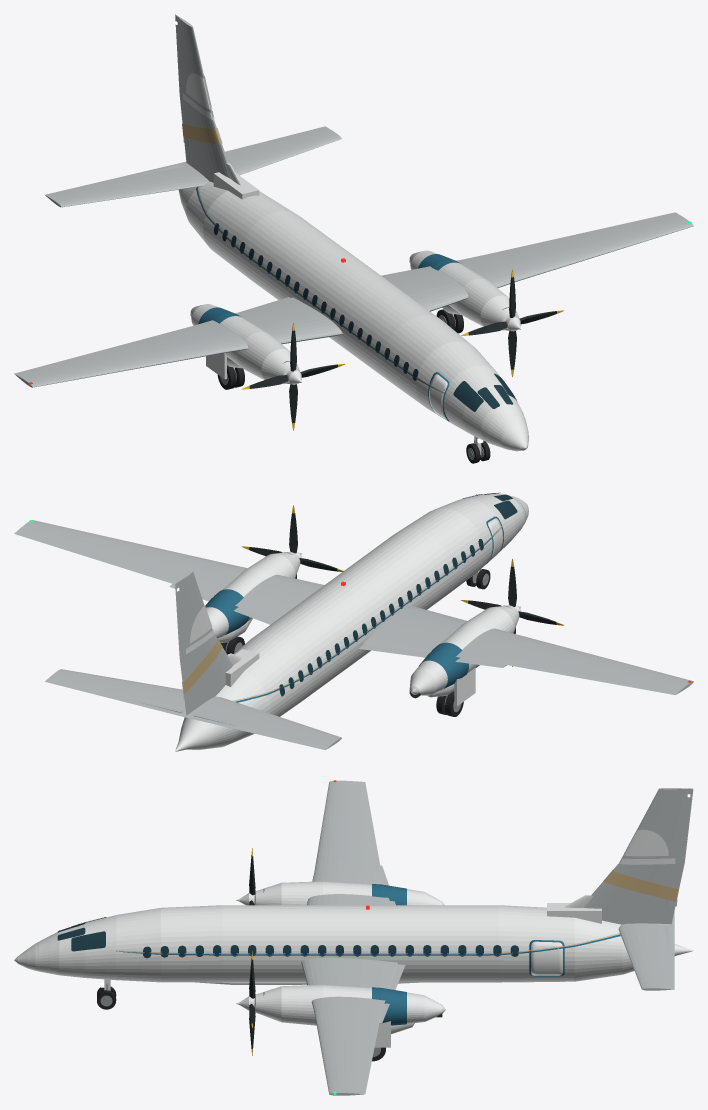
Rendered from mdl_saab_340b_v02_candidate.glb.
The picture shows the model from 3 angles, top to bottom: view 1: azimuth 30°, elevation 25°; view 2: azimuth 150°, elevation 25°; view 3: azimuth 270°, elevation 25°; orthographic projection. The views are drawn at different scales.
Visible parts, largest first — view 1: fuselage, wing_left, wing_right, tailplane, tail_fin, engine_left, engine_right, radome, livery_secondary, livery_emblem, tail_root_fairing; view 2: fuselage, wing_left, wing_right, tailplane, tail_fin, engine_left, engine_right, livery_cowl_left, livery_cowl_right, livery_secondary, flap_left, livery_emblem (+4 smaller); view 3: fuselage, wing_right, wing_left, tail_fin, engine_right, tailplane, engine_left, livery_secondary, livery_emblem, cargo_door, livery_stripe_lower, livery_cowl_right (+4 smaller).
Part boxes in pixels (<box>): fuselage: <box>178,181,527,448</box>; wing_left: <box>14,297,342,387</box>; wing_right: <box>382,212,693,311</box>; tailplane: <box>45,126,341,207</box>; tail_fin: <box>175,14,230,182</box>; engine_left: <box>190,304,300,383</box>; engine_right: <box>409,250,519,330</box>; radome: <box>487,410,528,451</box>; livery_secondary: <box>182,124,444,393</box>; livery_emblem: <box>183,73,214,119</box>; tail_root_fairing: <box>213,172,259,199</box>; fuselage: <box>175,493,528,751</box>; wing_left: <box>363,606,693,694</box>; wing_right: <box>14,520,324,620</box>; tailplane: <box>45,669,341,749</box>; tail_fin: <box>175,571,233,715</box>; engine_left: <box>409,605,519,695</box>; engine_right: <box>206,552,300,638</box>; livery_cowl_left: <box>419,642,468,690</box>; livery_cowl_right: <box>205,589,249,637</box>; livery_secondary: <box>182,526,501,701</box>; flap_left: <box>359,644,506,667</box>; livery_emblem: <box>186,606,214,654</box>; fuselage: <box>37,905,693,982</box>; wing_right: <box>301,957,397,1095</box>; wing_left: <box>307,780,390,905</box>; tail_fin: <box>583,788,693,924</box>; engine_right: <box>254,984,445,1025</box>; tailplane: <box>618,911,674,990</box>; engine_left: <box>254,881,444,905</box>; livery_secondary: <box>116,870,678,953</box>; livery_emblem: <box>619,829,675,864</box>; cargo_door: <box>531,941,562,975</box>; livery_stripe_lower: <box>116,934,620,955</box>; livery_cowl_right: <box>372,987,406,1025</box>.
Size of the model in its own units: 21.44 by 6.97 by 19.73.
